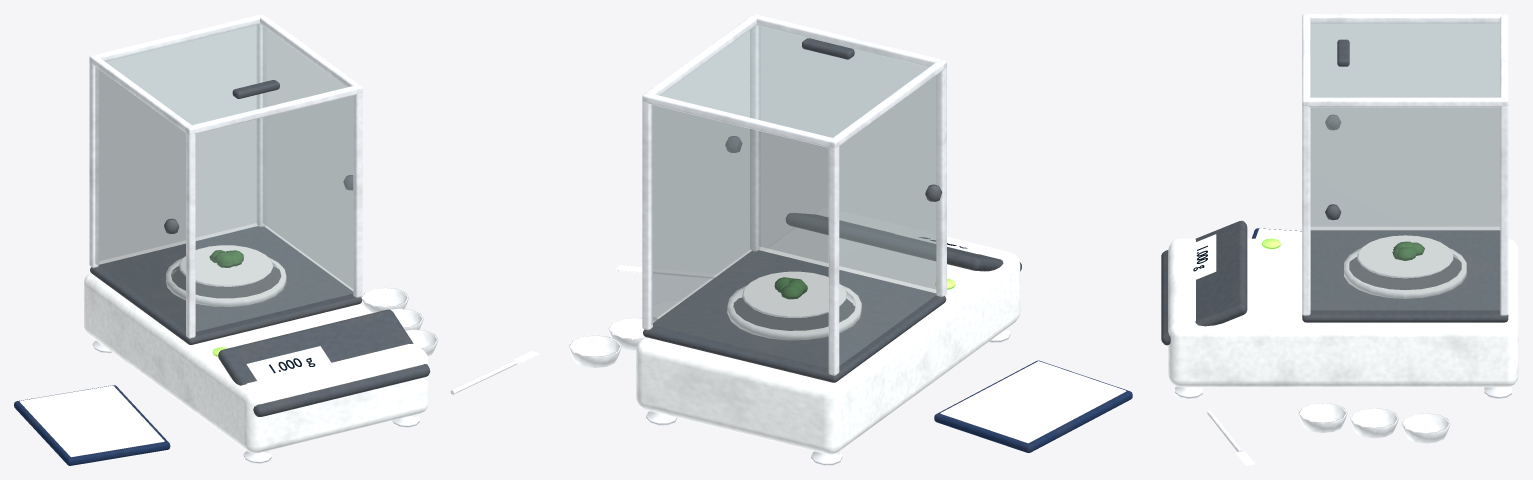
Rendered from waga_lab.glb.
3 renders of one model, left to right at view 1: azimuth 30°, elevation 25°; view 2: azimuth 150°, elevation 25°; view 3: azimuth 270°, elevation 25°, orthographic. The views are drawn at different scales.
Parts seen in each view (by area): view 1: Waga, Szklo, Wyswietlacz; view 2: Waga, Szklo; view 3: Waga, Szklo, Wyswietlacz, Porcja.
Boxes of the visible parts, x1,y1,x2,y2 form: Waga: [14, 14, 539, 465]; Szklo: [95, 22, 354, 331]; Wyswietlacz: [246, 346, 332, 382]; Waga: [568, 14, 1132, 465]; Szklo: [651, 23, 939, 367]; Waga: [1161, 14, 1518, 465]; Szklo: [1310, 21, 1500, 309]; Wyswietlacz: [1190, 234, 1216, 281]; Porcja: [1392, 241, 1424, 260].
Bounding box in the file's own units: 0.536 × 0.328 × 0.3468.
5 materials, 1 textured.
